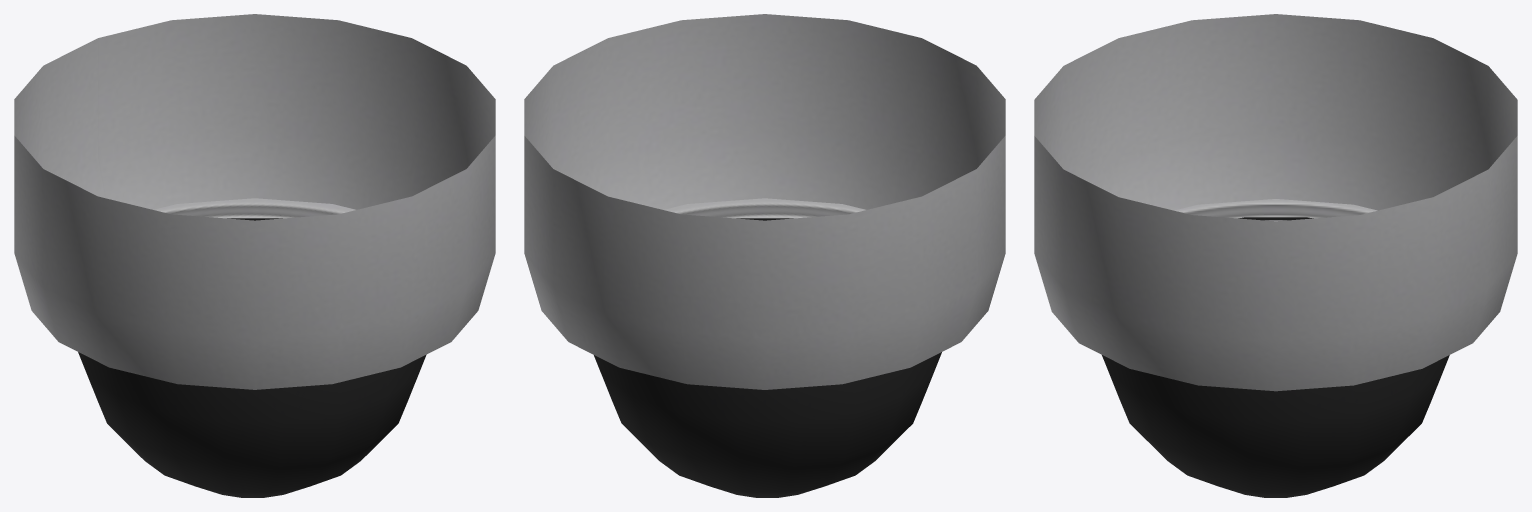
File: cc camera.FBX
3 views of the same model, side by side, from view 1: azimuth 30°, elevation 25°; view 2: azimuth 150°, elevation 25°; view 3: azimuth 270°, elevation 25° (orthographic).
Visible parts, largest first — view 1: cc camera; view 2: cc camera; view 3: cc camera.
Part boxes in pixels (box(x1,y1,x2,y2)): cc camera: box(14, 14, 495, 497); cc camera: box(524, 14, 1005, 497); cc camera: box(1034, 14, 1517, 497).
Size of the model in its own units: 5.01 by 4.94 by 4.12.
